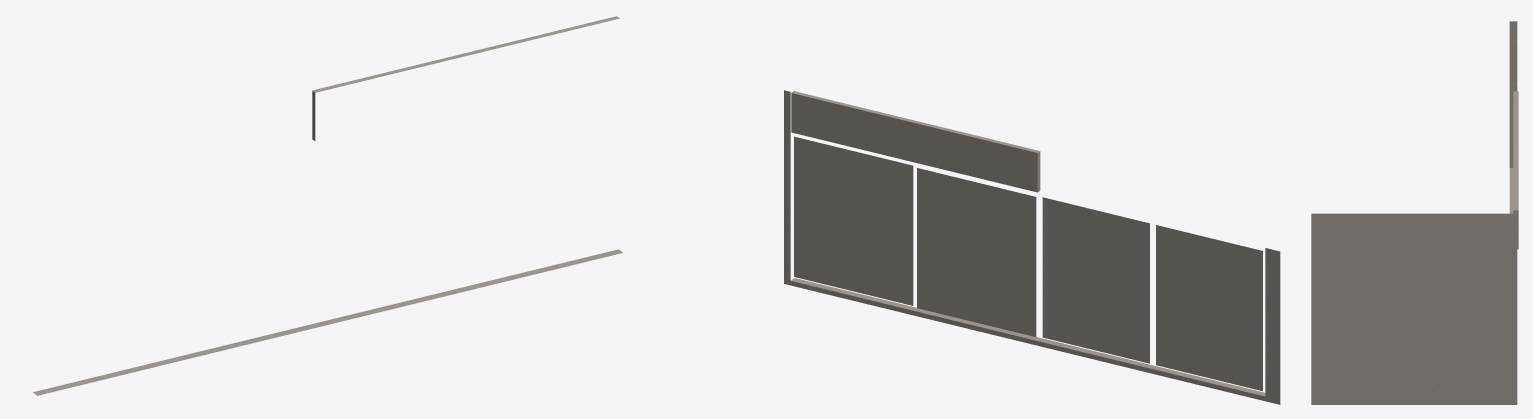
The model's file is kd_stage_135ded_4_82.glb.
3 renders of one model, left to right at view 1: azimuth 30°, elevation 25°; view 2: azimuth 150°, elevation 25°; view 3: azimuth 270°, elevation 25°, orthographic. The views are drawn at different scales.
Parts seen in each view (by area): view 1: kd_stage_135ded_4_82; view 2: kd_stage_135ded_4_82; view 3: kd_stage_135ded_4_82.
Boxes of the visible parts, x1,y1,x2,y2 form: kd_stage_135ded_4_82: (33, 16, 623, 395); kd_stage_135ded_4_82: (784, 90, 1280, 404); kd_stage_135ded_4_82: (1311, 21, 1518, 404).
Bounding box in the file's own units: 2.2 × 0.82 × 0.805.
Materials: 1 (1 with a texture image).
